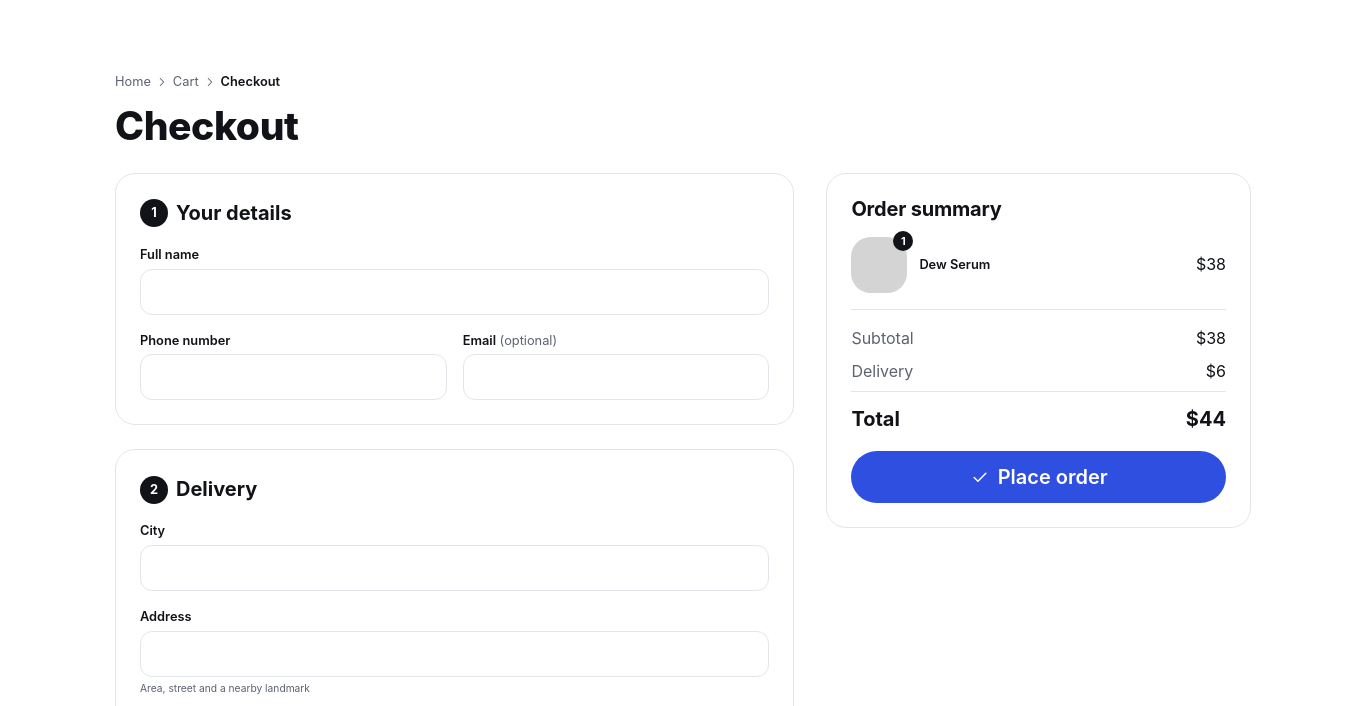
Test case: checkout › says so when the platform cannot take orders
Type "Sara Ali" into the field labelled "Full name" at [455, 292], box [140, 269, 769, 315]
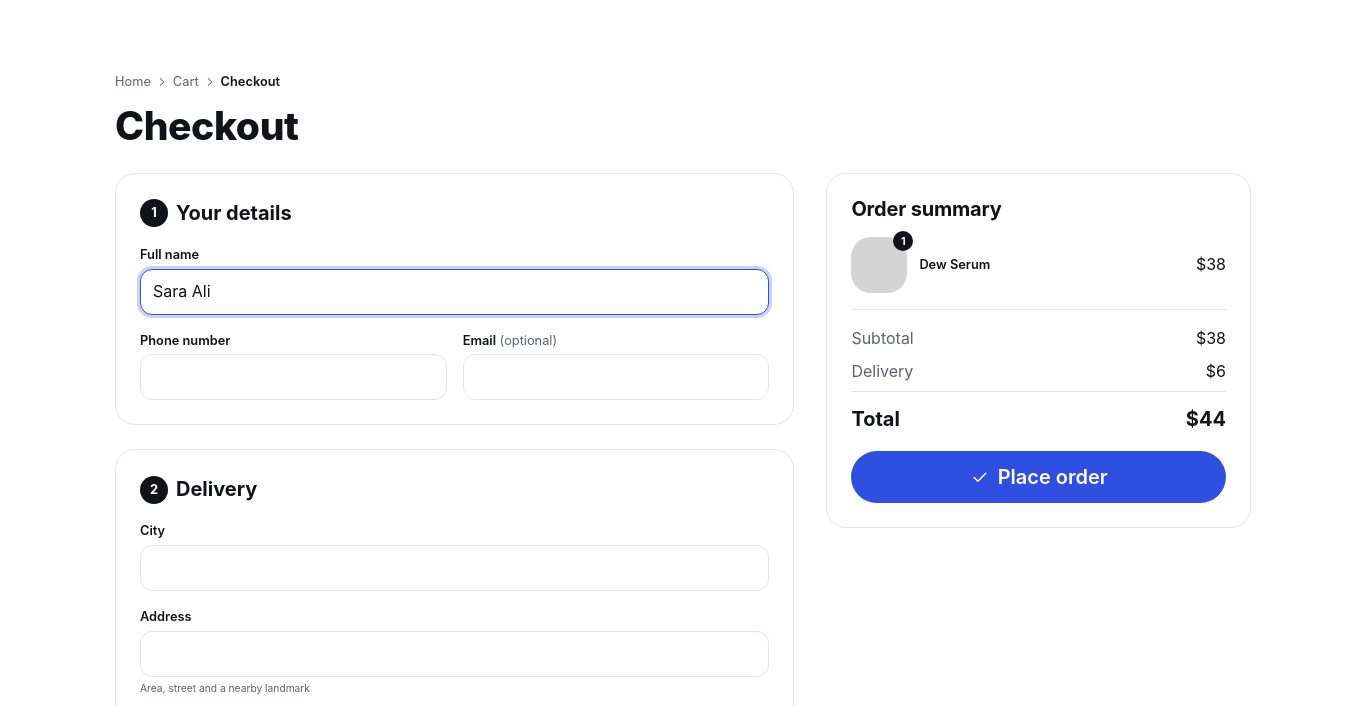
Type "5550100" into the field labelled "Phone number" at [293, 377], box [140, 354, 447, 400]
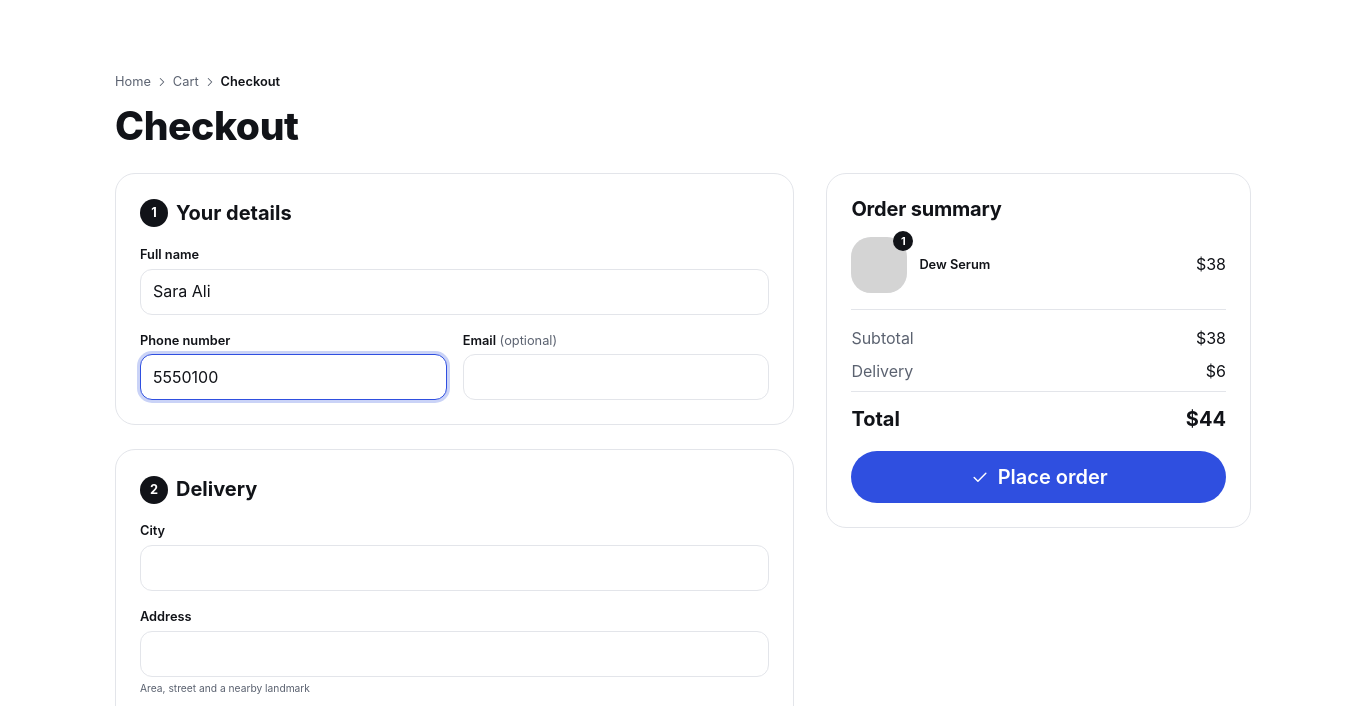
Type "Riverside" into the field labelled "City" at [455, 568], box [140, 545, 769, 591]
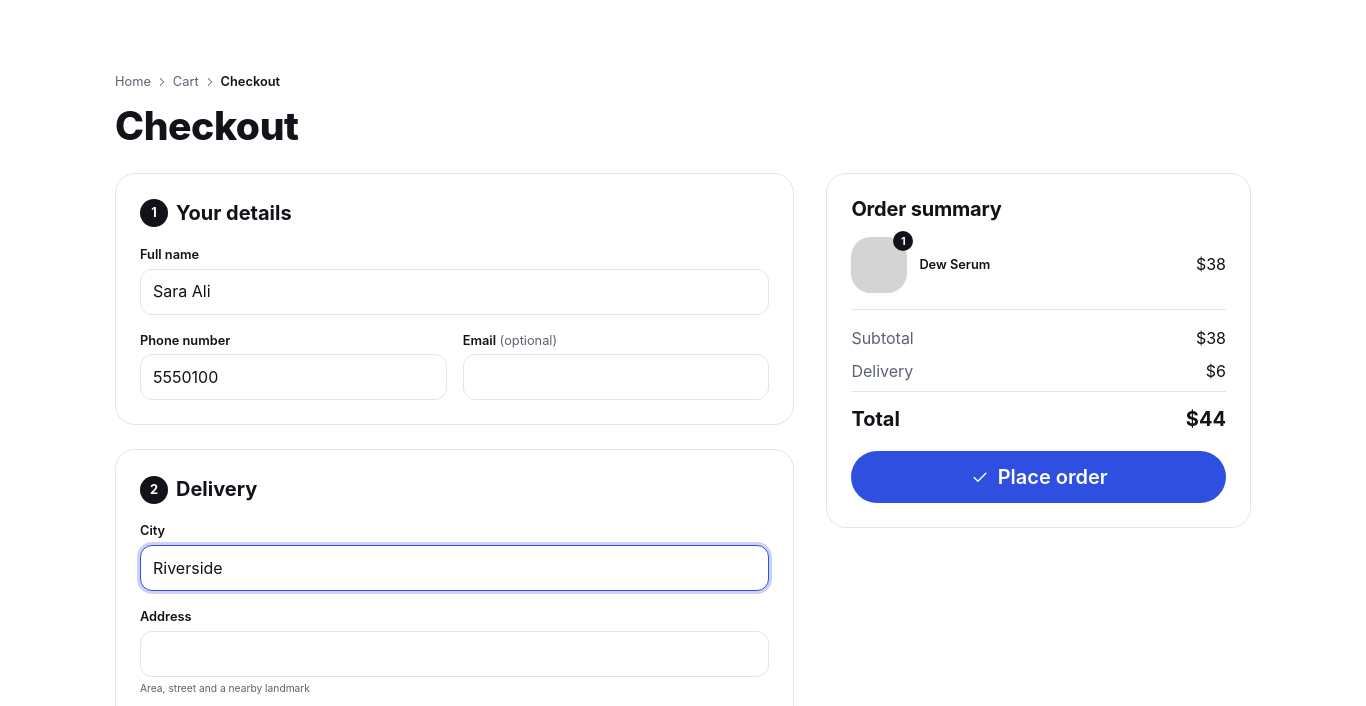
Type "12 Market Street" into the field labelled "Address" at [455, 654], box [140, 631, 769, 677]
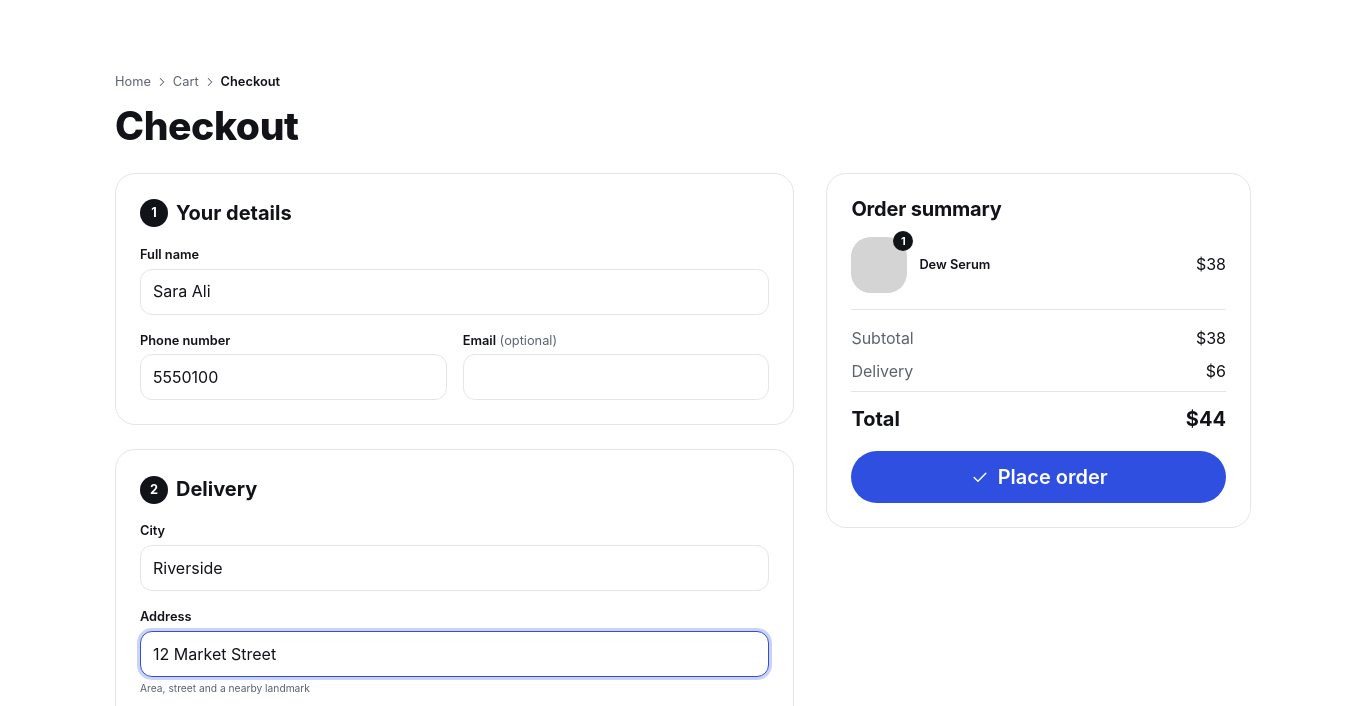
Click the button "Place order" at [1039, 477], box [851, 451, 1226, 503]
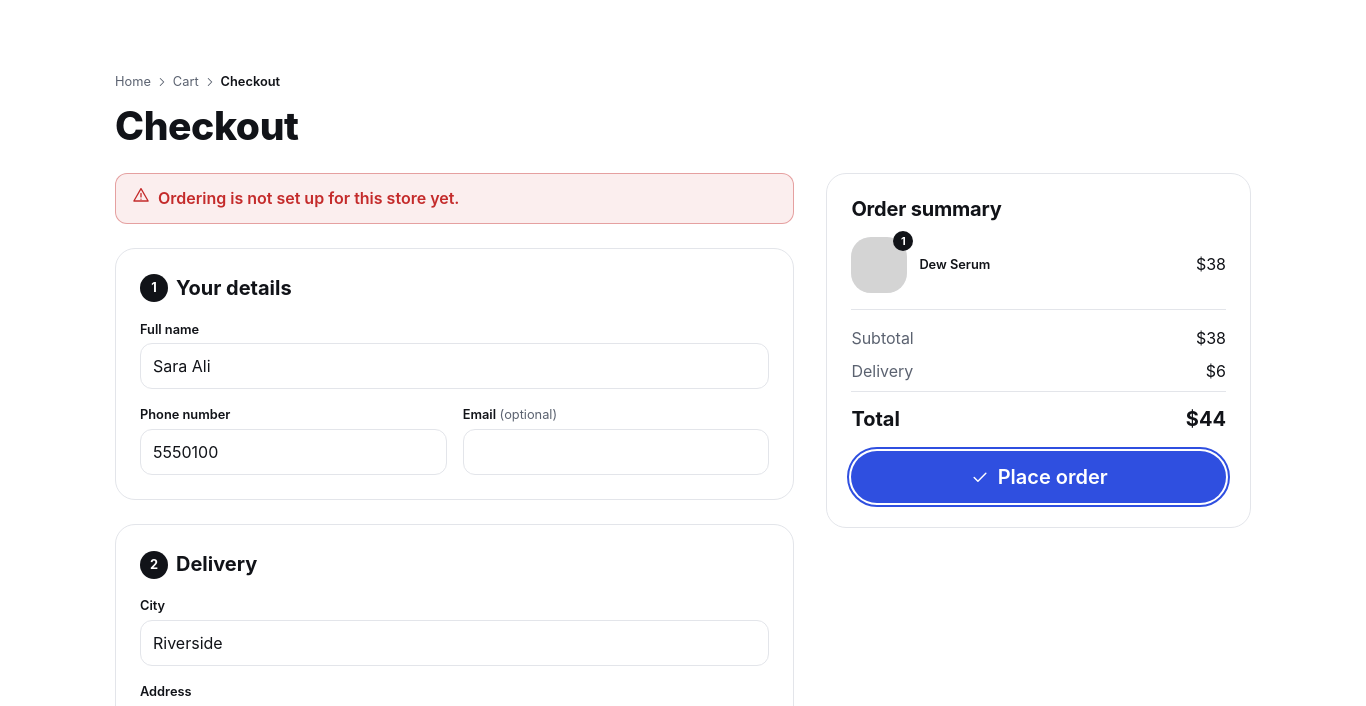
Expected: the message reads "Ordering is not set up for this store yet.", [158, 188, 460, 208]
